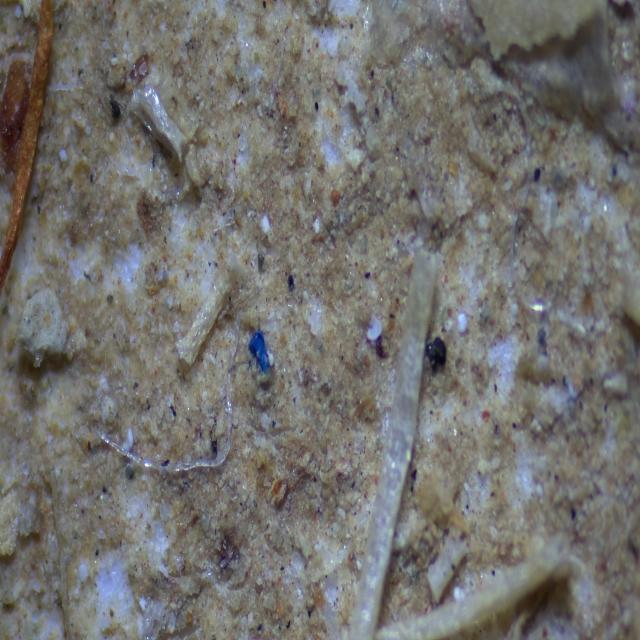microplastic: (242, 334, 278, 377)
